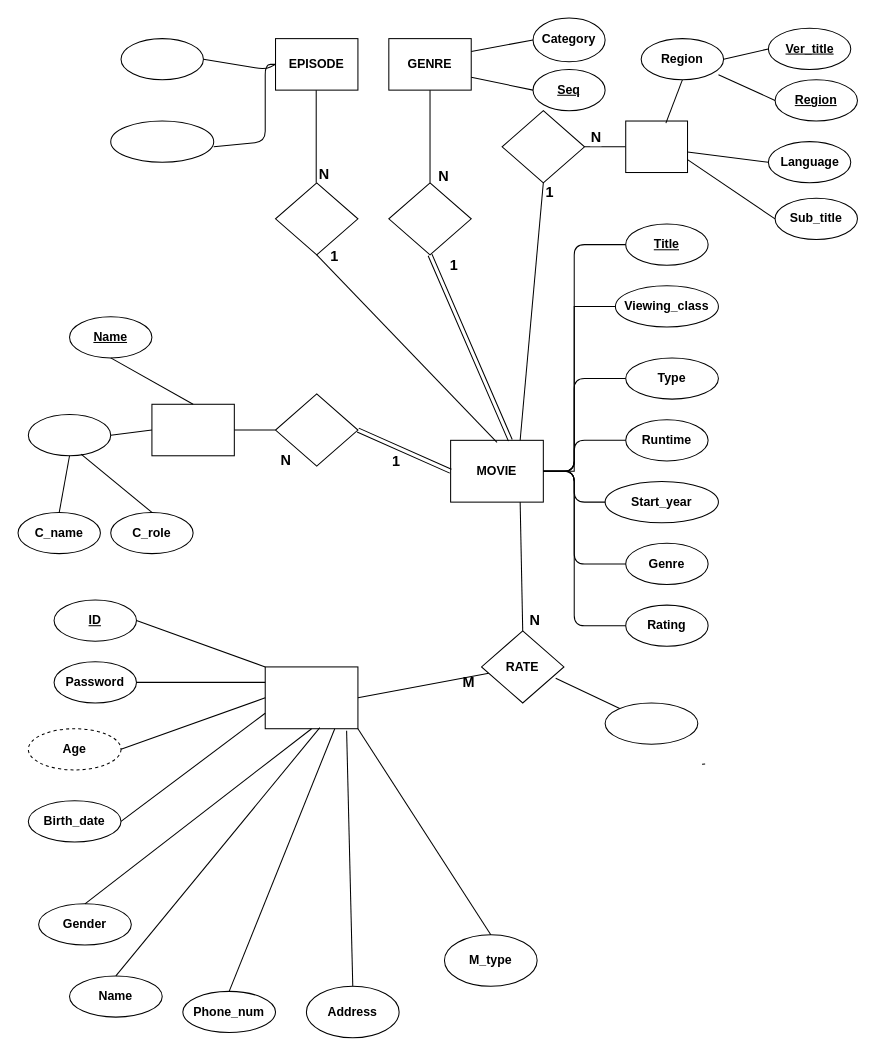
This 876x1056 diagram has some shape labels left out. The box of each missing label's shape, as (x1, y1, x2, y2) in pixels:
ACCOUNT: (264, 666, 358, 729)
ACTOR: (151, 403, 234, 456)
APPEAR: (274, 393, 358, 466)
Character: (27, 414, 111, 456)
CLASSIFY: (388, 182, 471, 255)
CONSIST: (274, 182, 358, 255)
CONTAIN: (501, 110, 585, 183)
Episode_title: (110, 120, 214, 162)
Num_vote: (604, 702, 698, 744)
Round: (120, 38, 203, 80)
VERSION: (625, 120, 688, 173)
